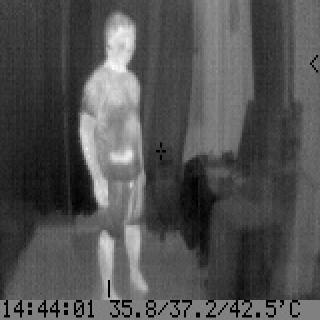Gun: (106, 145, 138, 195)
